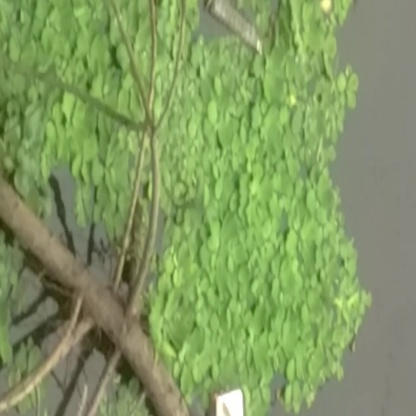branch: (1, 186, 191, 416)
